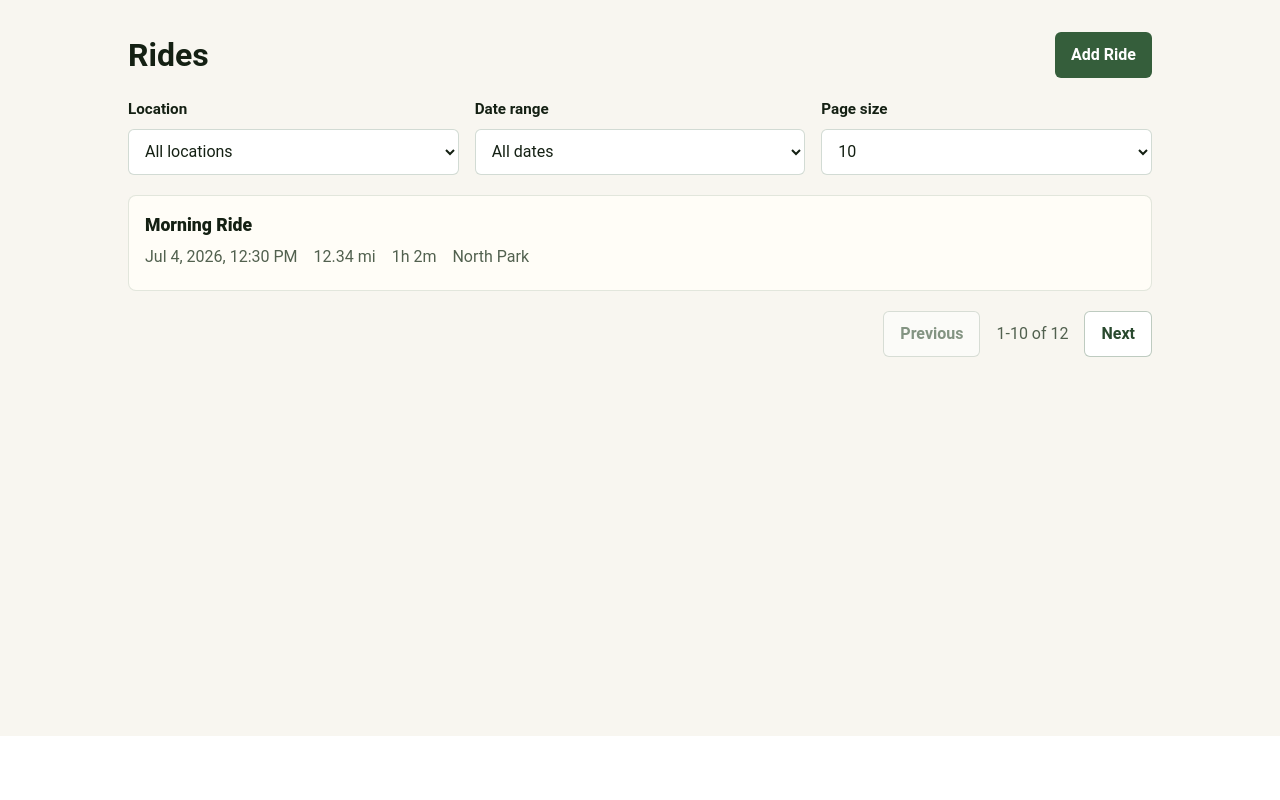
Test: RideListView › paginates rides
Click the button "Next": coordinates (1118, 334) [1084,311,1152,357]
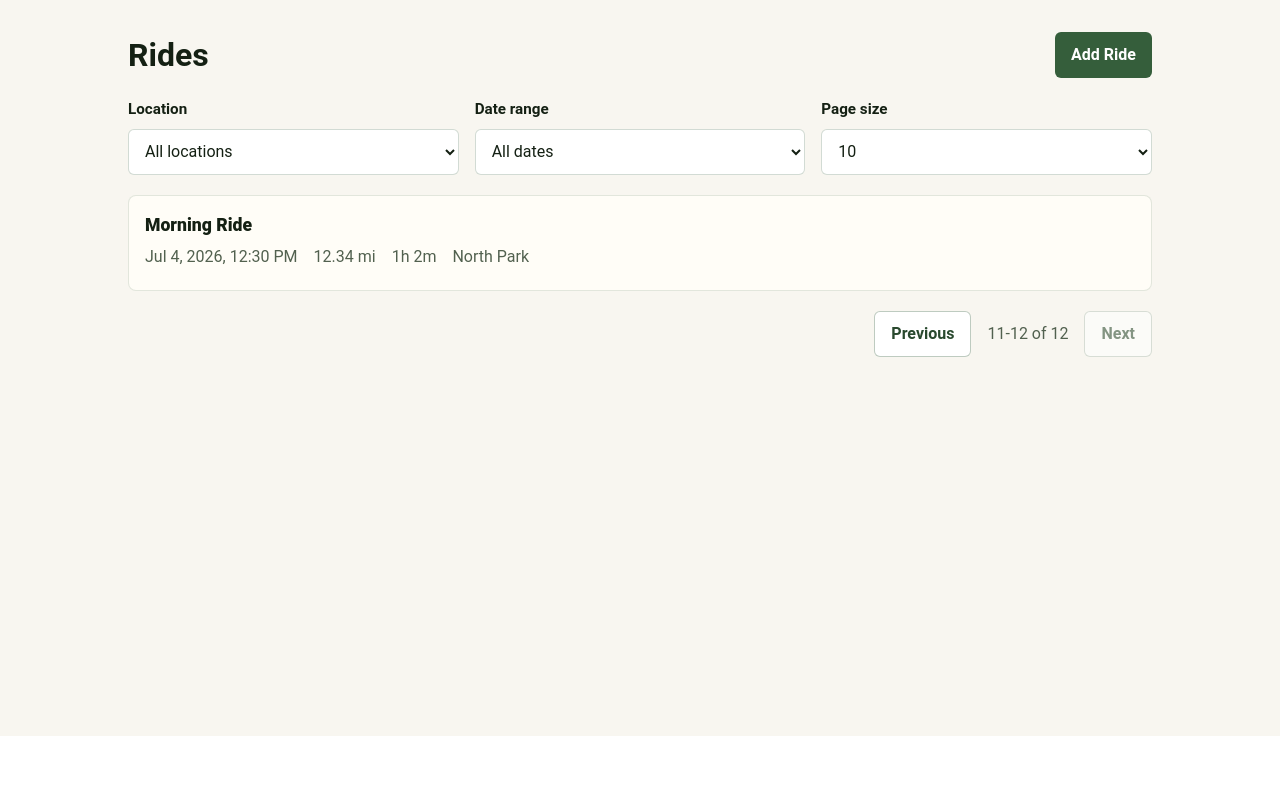
Now the text "11-12 of 12" is shown, box [988,322,1068,346]
